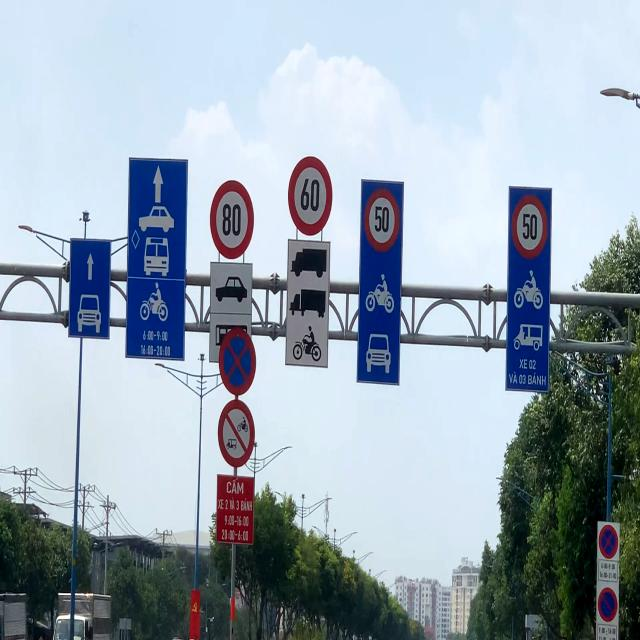P.127: (288, 156, 333, 236), (210, 180, 254, 259), (511, 195, 548, 259), (364, 189, 400, 252)
P.130: (218, 328, 256, 396), (599, 525, 618, 559)
P.131a: (598, 587, 618, 623)
